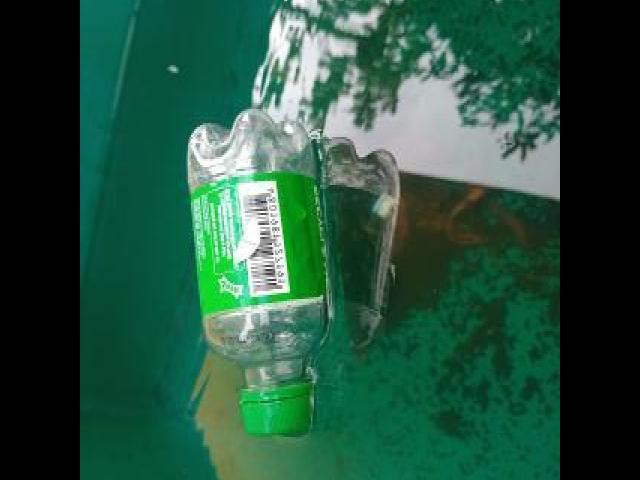Bottle: (180, 102, 336, 447)
